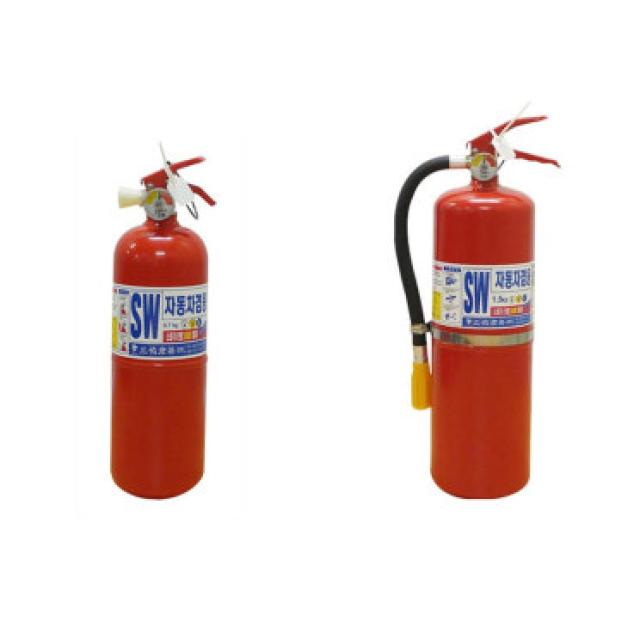pressure gauge: (143, 188, 174, 218), (470, 153, 495, 179)
